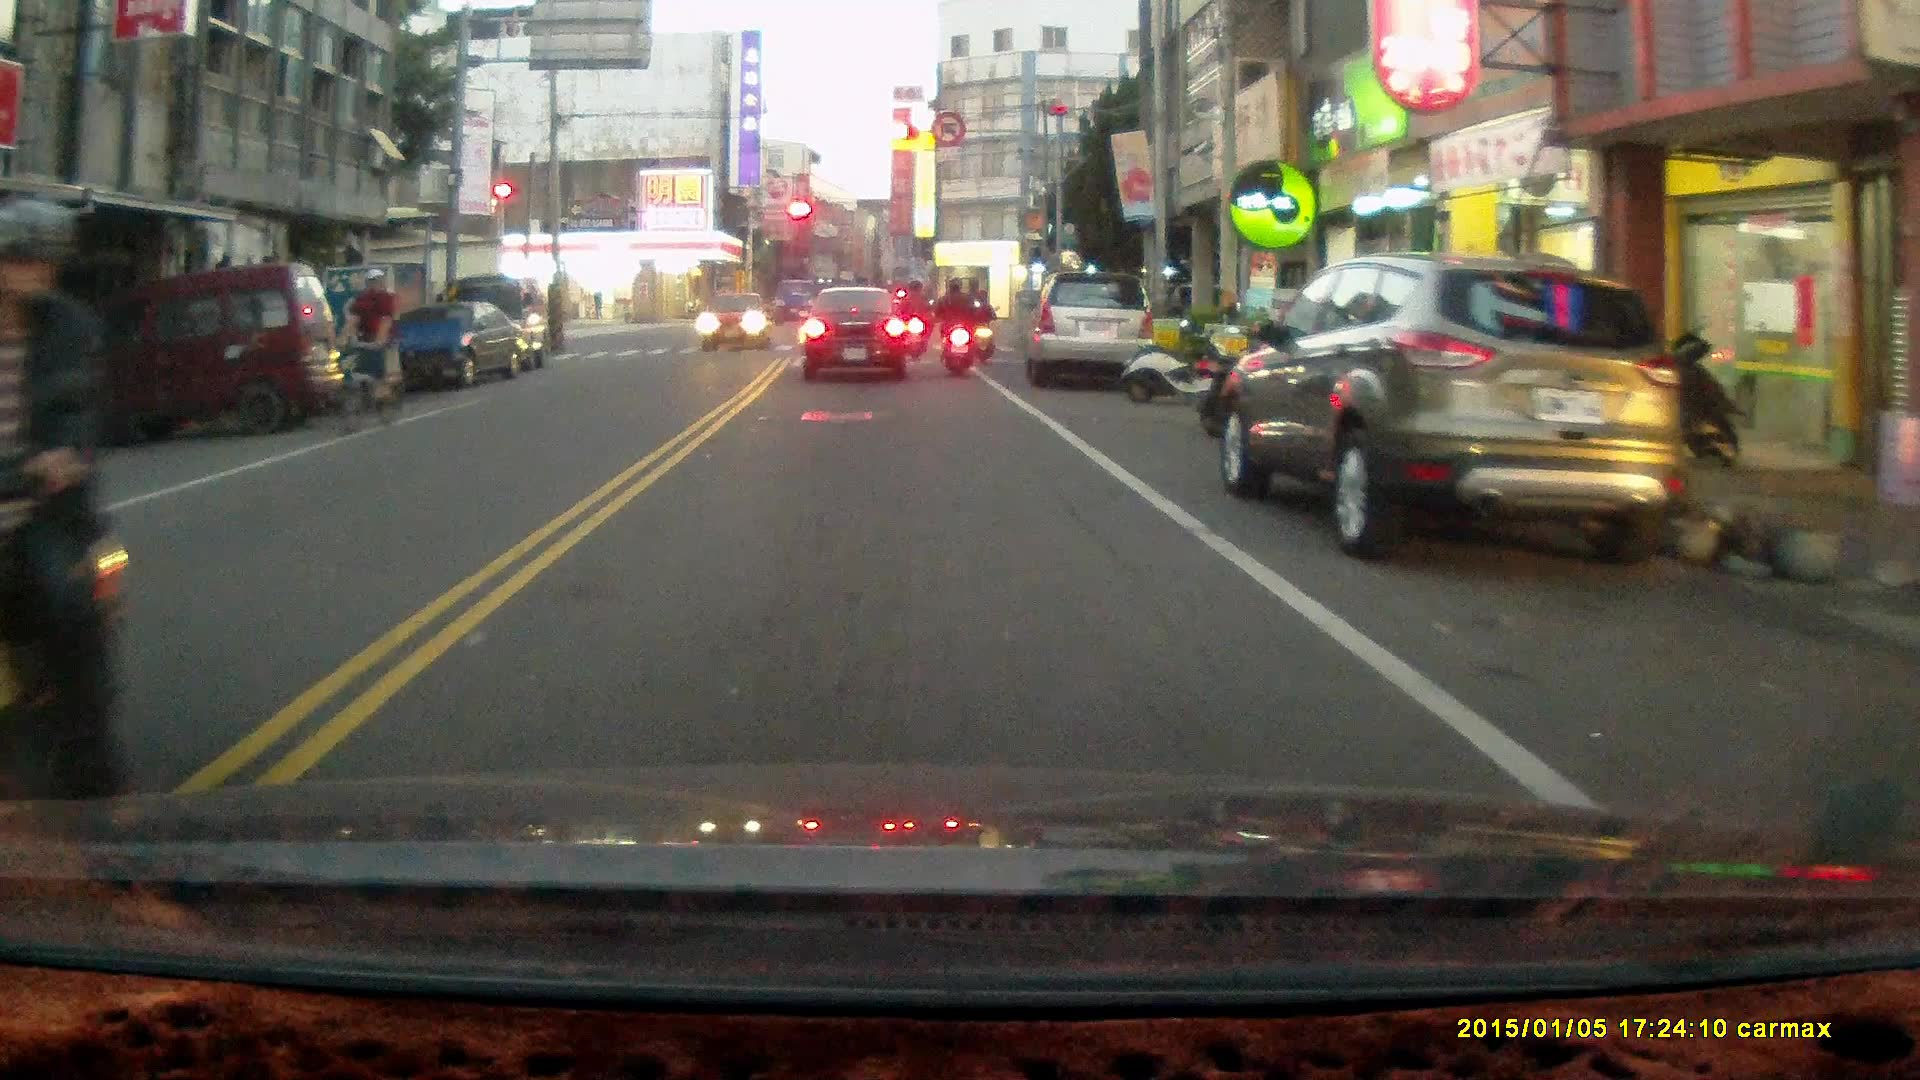rider: (0, 192, 136, 854), (339, 269, 400, 435), (930, 271, 979, 377), (895, 273, 931, 359), (966, 285, 996, 365)
vehicle: (1217, 254, 1676, 568), (80, 261, 349, 438), (1025, 270, 1159, 391), (398, 297, 520, 389), (803, 282, 912, 382), (699, 290, 773, 354)
